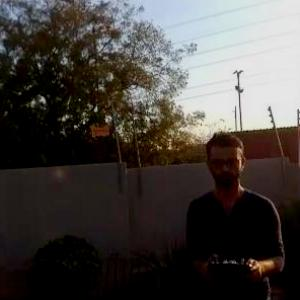follow: (183, 124, 291, 299)
